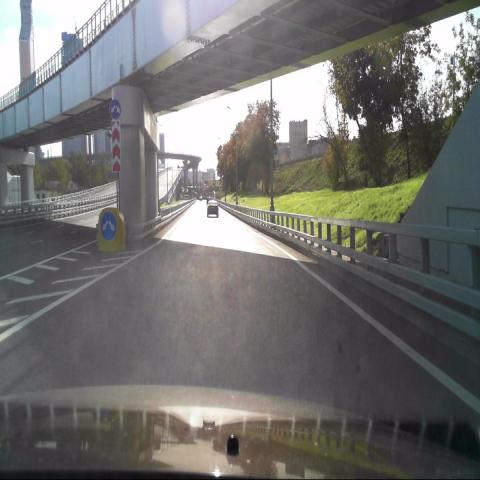4_2_3: (110, 98, 122, 120)
